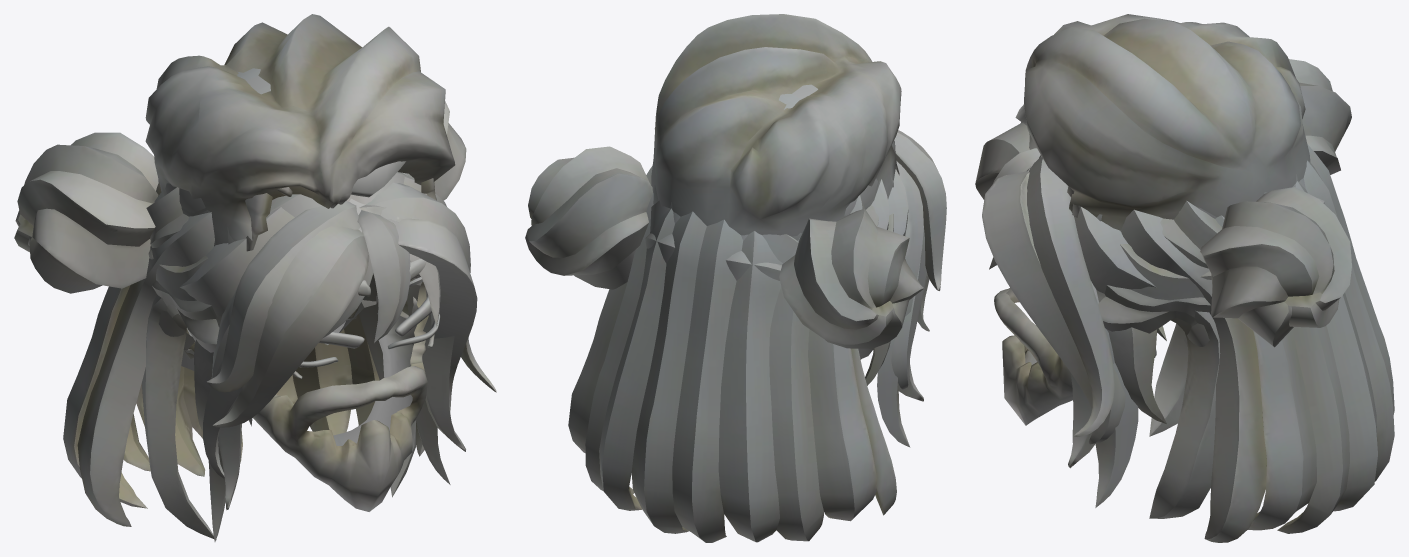
Rendered from cabelos.glb.
3 views of the same model, side by side, from view 1: azimuth 30°, elevation 25°; view 2: azimuth 150°, elevation 25°; view 3: azimuth 270°, elevation 25° (orthographic). The views are drawn at different scales.
Visible parts, largest first — view 1: Hair_Long, Hair_SimpleParted, Hair_Buns, Hair_Beard, Hair_Buzzed, Eyebrows_Female; view 2: Hair_Long, Hair_SimpleParted, Hair_Buns, Hair_Buzzed; view 3: Hair_Long, Hair_SimpleParted, Hair_Buns, Hair_Beard.
Part boxes in pixels (x1=…): Hair_Long: x1=63, y1=173, x2=496, y2=539; Hair_SimpleParted: x1=145, y1=14, x2=455, y2=244; Hair_Buns: x1=14, y1=101, x2=466, y2=541; Hair_Beard: x1=253, y1=279, x2=428, y2=511; Hair_Buzzed: x1=161, y1=68, x2=436, y2=251; Eyebrows_Female: x1=293, y1=295, x2=440, y2=378; Hair_Long: x1=568, y1=130, x2=946, y2=542; Hair_SimpleParted: x1=651, y1=14, x2=901, y2=236; Hair_Buns: x1=525, y1=146, x2=923, y2=447; Hair_Buzzed: x1=653, y1=84, x2=899, y2=240; Hair_Long: x1=975, y1=122, x2=1394, y2=542; Hair_SimpleParted: x1=1024, y1=14, x2=1310, y2=230; Hair_Buns: x1=989, y1=59, x2=1351, y2=507; Hair_Beard: x1=994, y1=288, x2=1156, y2=425.
Bounding box in the file's own units: 0.3015 × 0.3389 × 0.2705.
2 materials, 2 textured.
